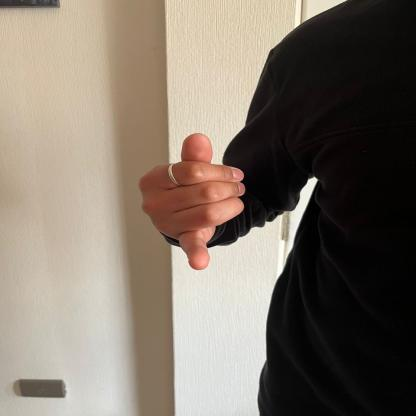Z: (134, 128, 249, 278)
